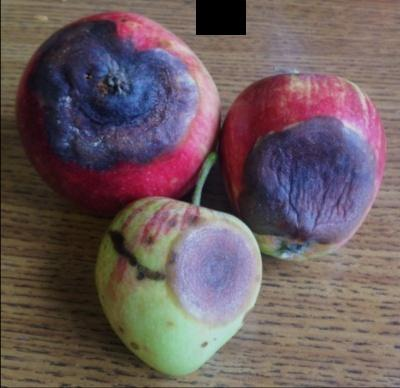rotten apple: (14, 8, 226, 215), (92, 194, 272, 378), (223, 68, 388, 265)
